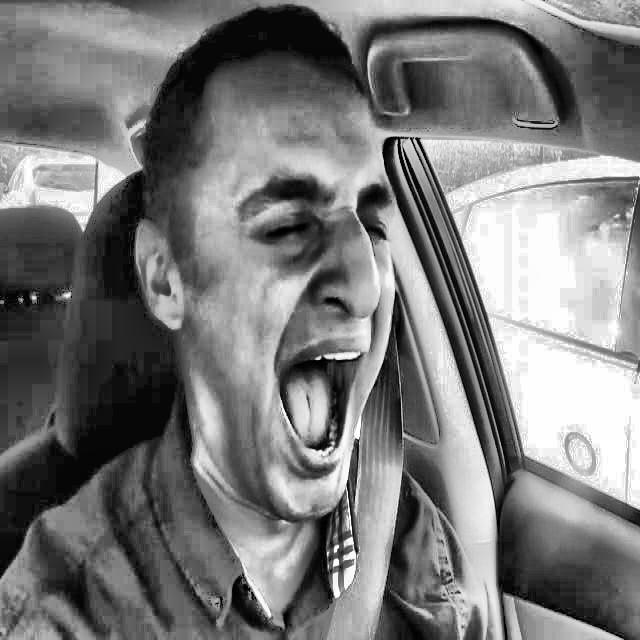closed_eyes: (248, 191, 330, 258), (343, 198, 407, 259)
open_mouth: (259, 322, 393, 493)
